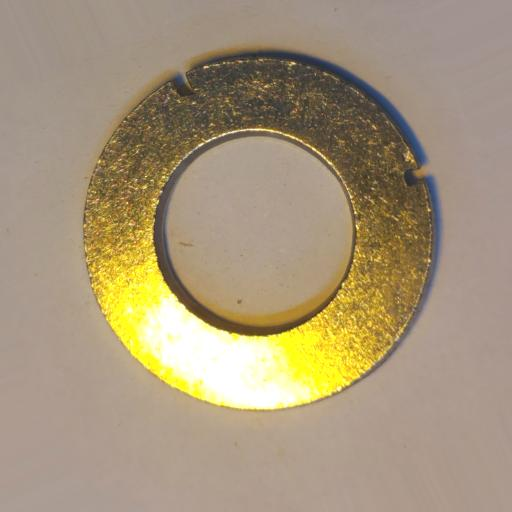burr: (170, 72, 194, 98), (401, 166, 425, 188)
